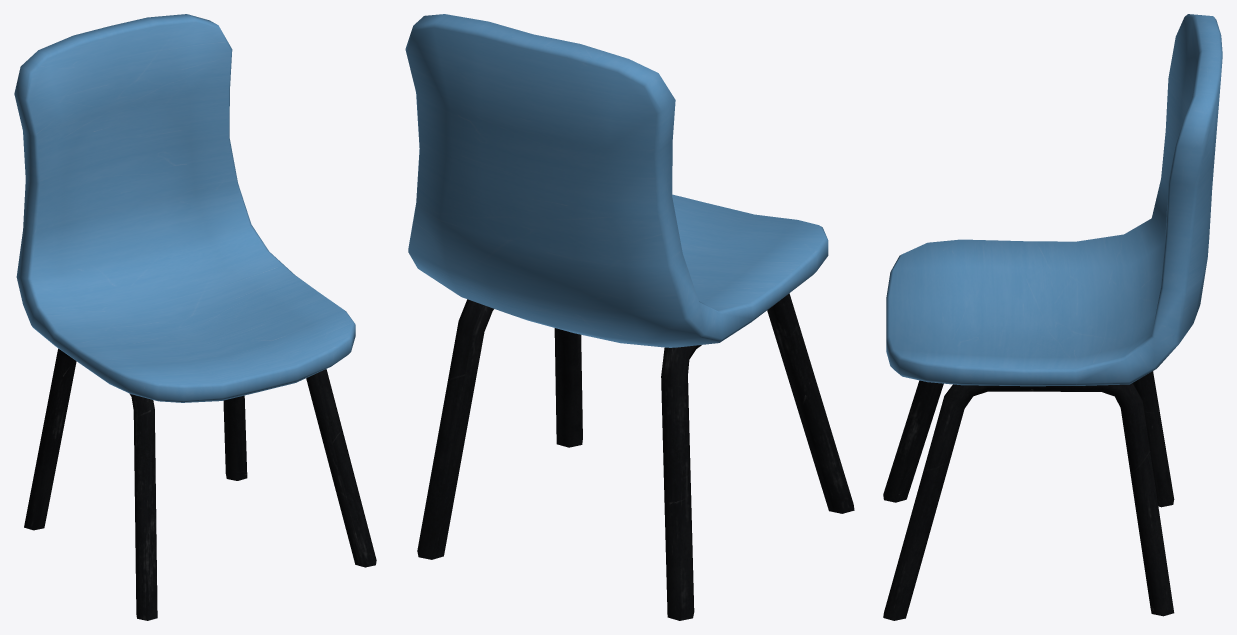
File: Chair_1.fbx
3 renders of one model, left to right at view 1: azimuth 30°, elevation 25°; view 2: azimuth 150°, elevation 25°; view 3: azimuth 270°, elevation 25°, orthographic. The views are drawn at different scales.
Parts seen in each view (by area): view 1: Chair_1; view 2: Chair_1; view 3: Chair_1.
Part boxes in pixels (left/top/right/bottom): Chair_1: left=14, top=14, right=376, bottom=620; Chair_1: left=405, top=14, right=854, bottom=620; Chair_1: left=883, top=14, right=1222, bottom=620.
Bounding box in the file's own units: 0.6514 × 1.18 × 0.7154.
